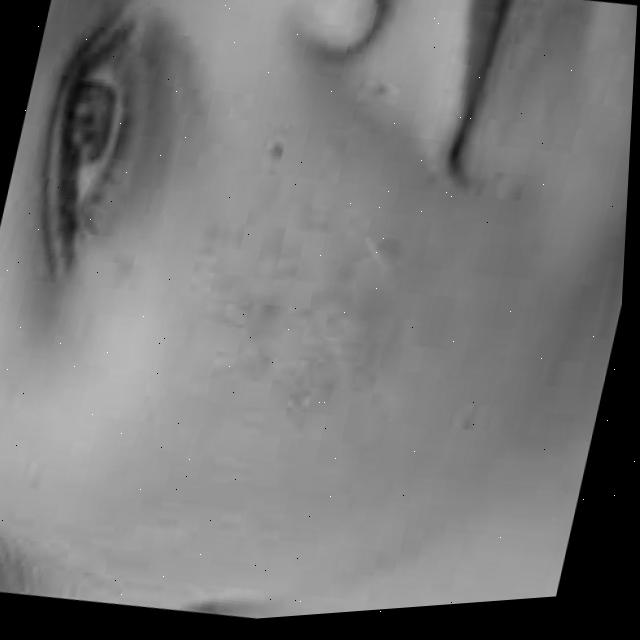Rosacea: (160, 136, 469, 477)
